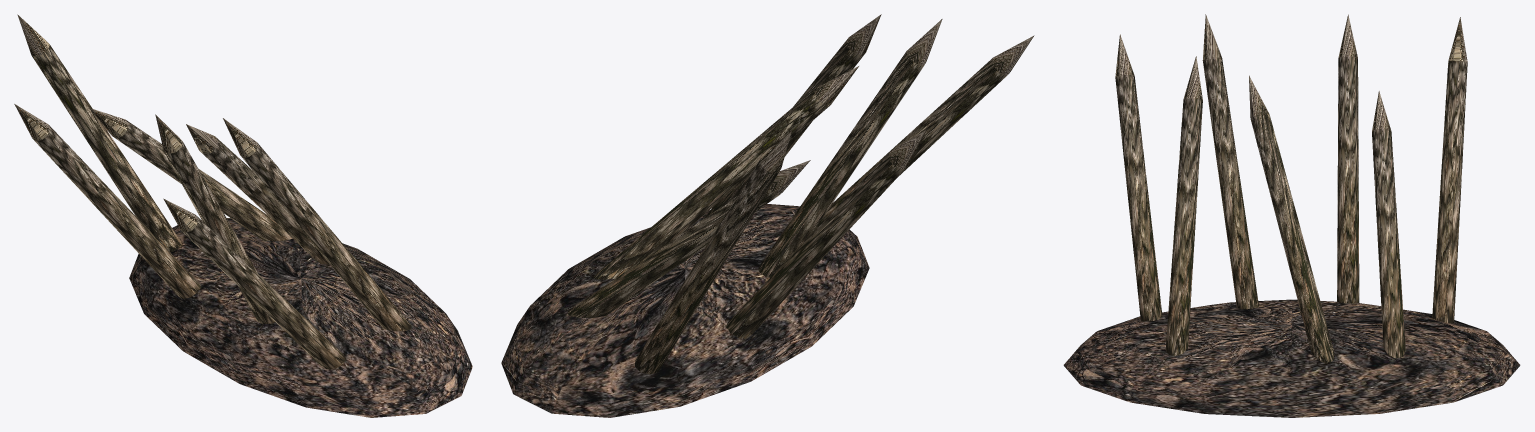
File: StrucSpears.fbx
3 views of the same model, side by side, from view 1: azimuth 30°, elevation 25°; view 2: azimuth 150°, elevation 25°; view 3: azimuth 270°, elevation 25° (orthographic). The views are drawn at different scales.
Parts seen in each view (by area): view 1: Ground, Spear007, Spear001, Spear002, Spear004, Spear005, Spear003, Spear006; view 2: Ground, Spear006, Spear003, Spear001, Spear002, Spear005, Spear004, Spear007; view 3: Ground, Spear001, Spear007, Spear003, Spear006, Spear002, Spear004, Spear005.
Part boxes in pixels (box(x1,y1,x2,y2)): Ground: box(129, 218, 472, 417); Spear007: box(223, 118, 411, 331); Spear001: box(17, 14, 182, 252); Spear002: box(14, 104, 201, 298); Spear004: box(163, 198, 345, 369); Spear005: box(89, 108, 292, 241); Spear003: box(155, 114, 274, 324); Spear006: box(186, 124, 329, 264); Ground: box(501, 204, 869, 417); Spear006: box(593, 66, 858, 279); Spear003: box(758, 19, 942, 277); Spear001: box(635, 130, 791, 374); Spear002: box(726, 129, 926, 338); Spear005: box(567, 160, 810, 317); Spear004: box(813, 35, 1034, 232); Spear007: box(704, 14, 881, 218); Ground: box(1063, 299, 1520, 417); Spear001: box(1432, 17, 1467, 323); Spear007: box(1165, 56, 1202, 356); Spear003: box(1202, 14, 1258, 309); Spear006: box(1249, 75, 1334, 363); Spear002: box(1337, 14, 1359, 303); Spear004: box(1115, 34, 1162, 321); Spear005: box(1372, 91, 1405, 358).
Bounding box in the file's own units: 86.46 × 64 × 100.
2 materials, 2 textured.
